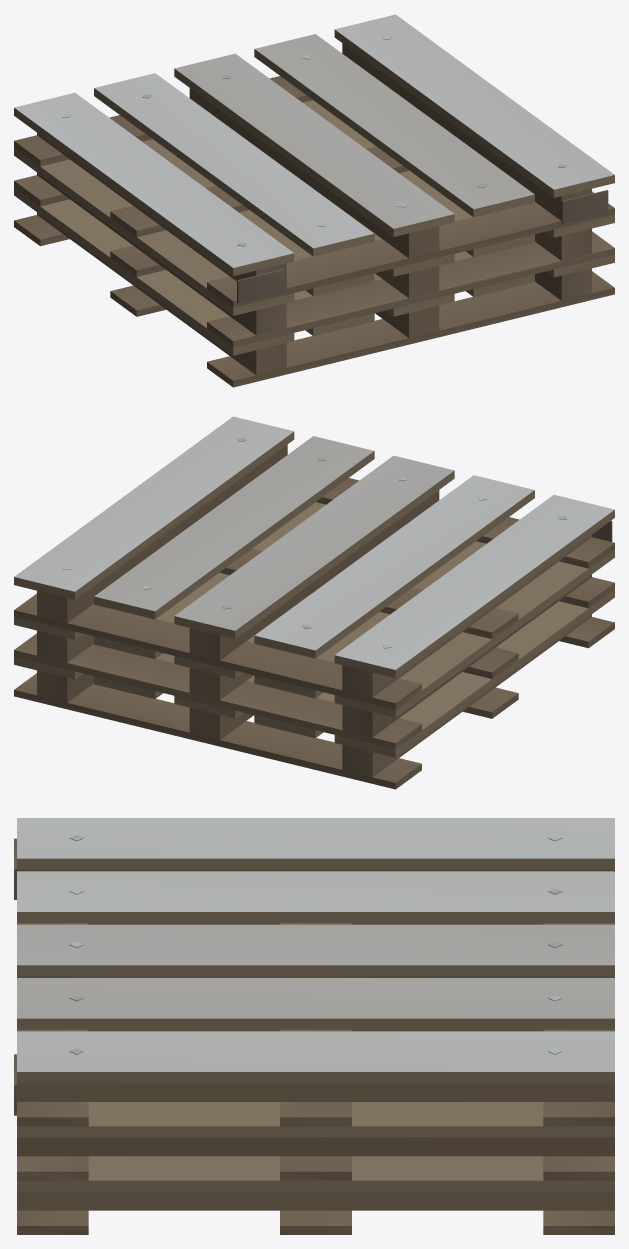
File: pallet_stack.glb
3 renders of one model, top to bottom at view 1: azimuth 30°, elevation 25°; view 2: azimuth 150°, elevation 25°; view 3: azimuth 270°, elevation 25°, orthographic. The views are drawn at different scales.
Parts seen in each view (by area): view 1: pallet_stack; view 2: pallet_stack; view 3: pallet_stack.
Part boxes in pixels (box(x1,y1,x2,y2)): pallet_stack: box(14, 14, 614, 387); pallet_stack: box(14, 416, 614, 789); pallet_stack: box(14, 818, 614, 1234).
Size of the model in its own units: 2 by 0.6 by 2.
